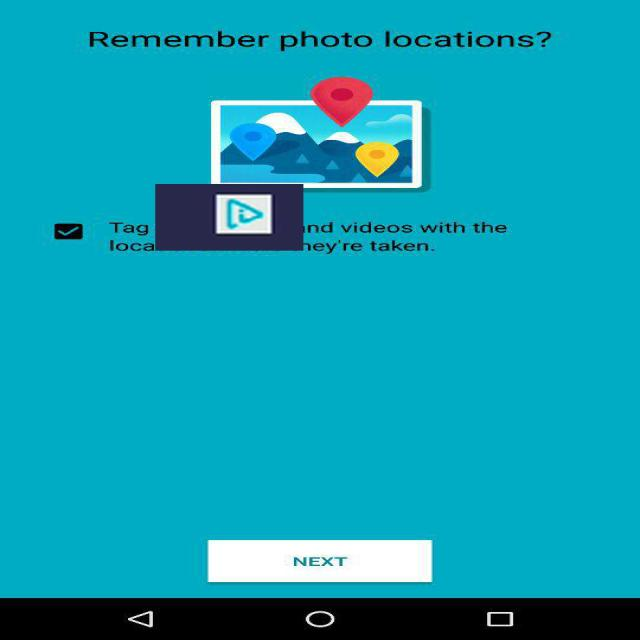sneaking: (156, 184, 304, 251)
